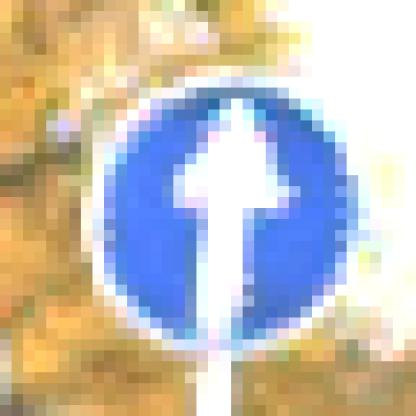AheadOnly: (71, 67, 360, 351)
